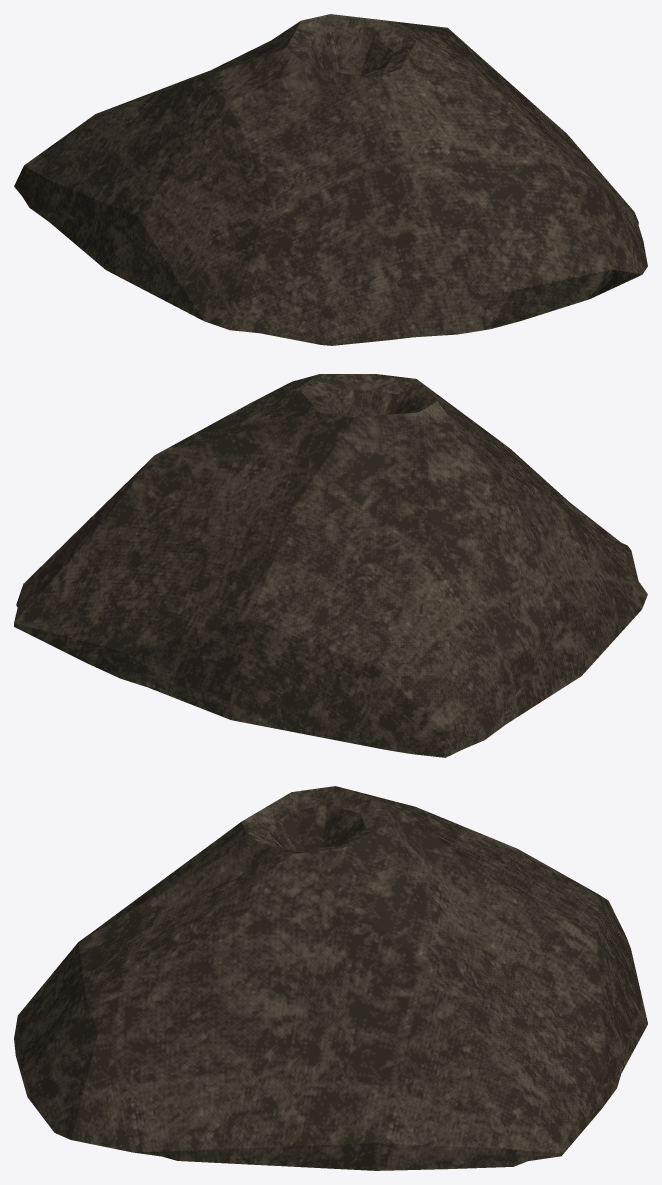
Rendered from anthill.fbx.
3 renders of one model, top to bottom at view 1: azimuth 30°, elevation 25°; view 2: azimuth 150°, elevation 25°; view 3: azimuth 270°, elevation 25°, orthographic. The views are drawn at different scales.
Visible parts, largest first — view 1: Roundcube.001; view 2: Roundcube.001; view 3: Roundcube.001.
Part boxes in pixels (left/top/right/bottom): Roundcube.001: left=14, top=14, right=647, bottom=345; Roundcube.001: left=14, top=374, right=647, bottom=757; Roundcube.001: left=14, top=786, right=647, bottom=1170.
Size of the model in its own units: 5204 by 5399 by 2077.
